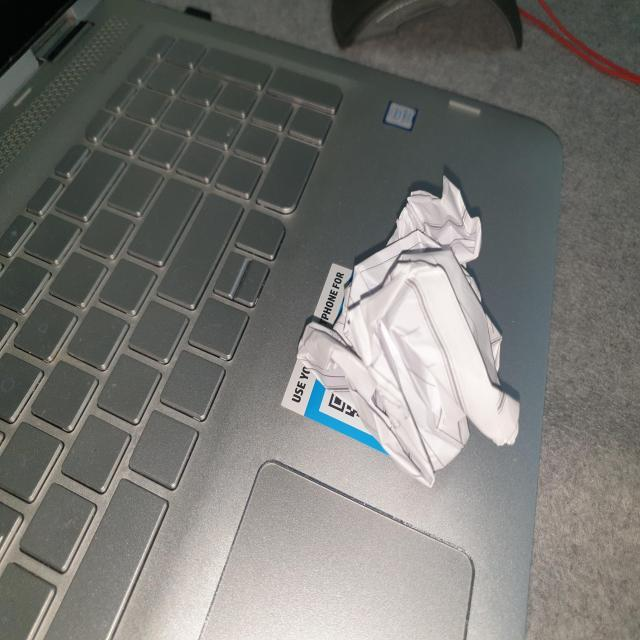trash: (288, 164, 534, 512)
